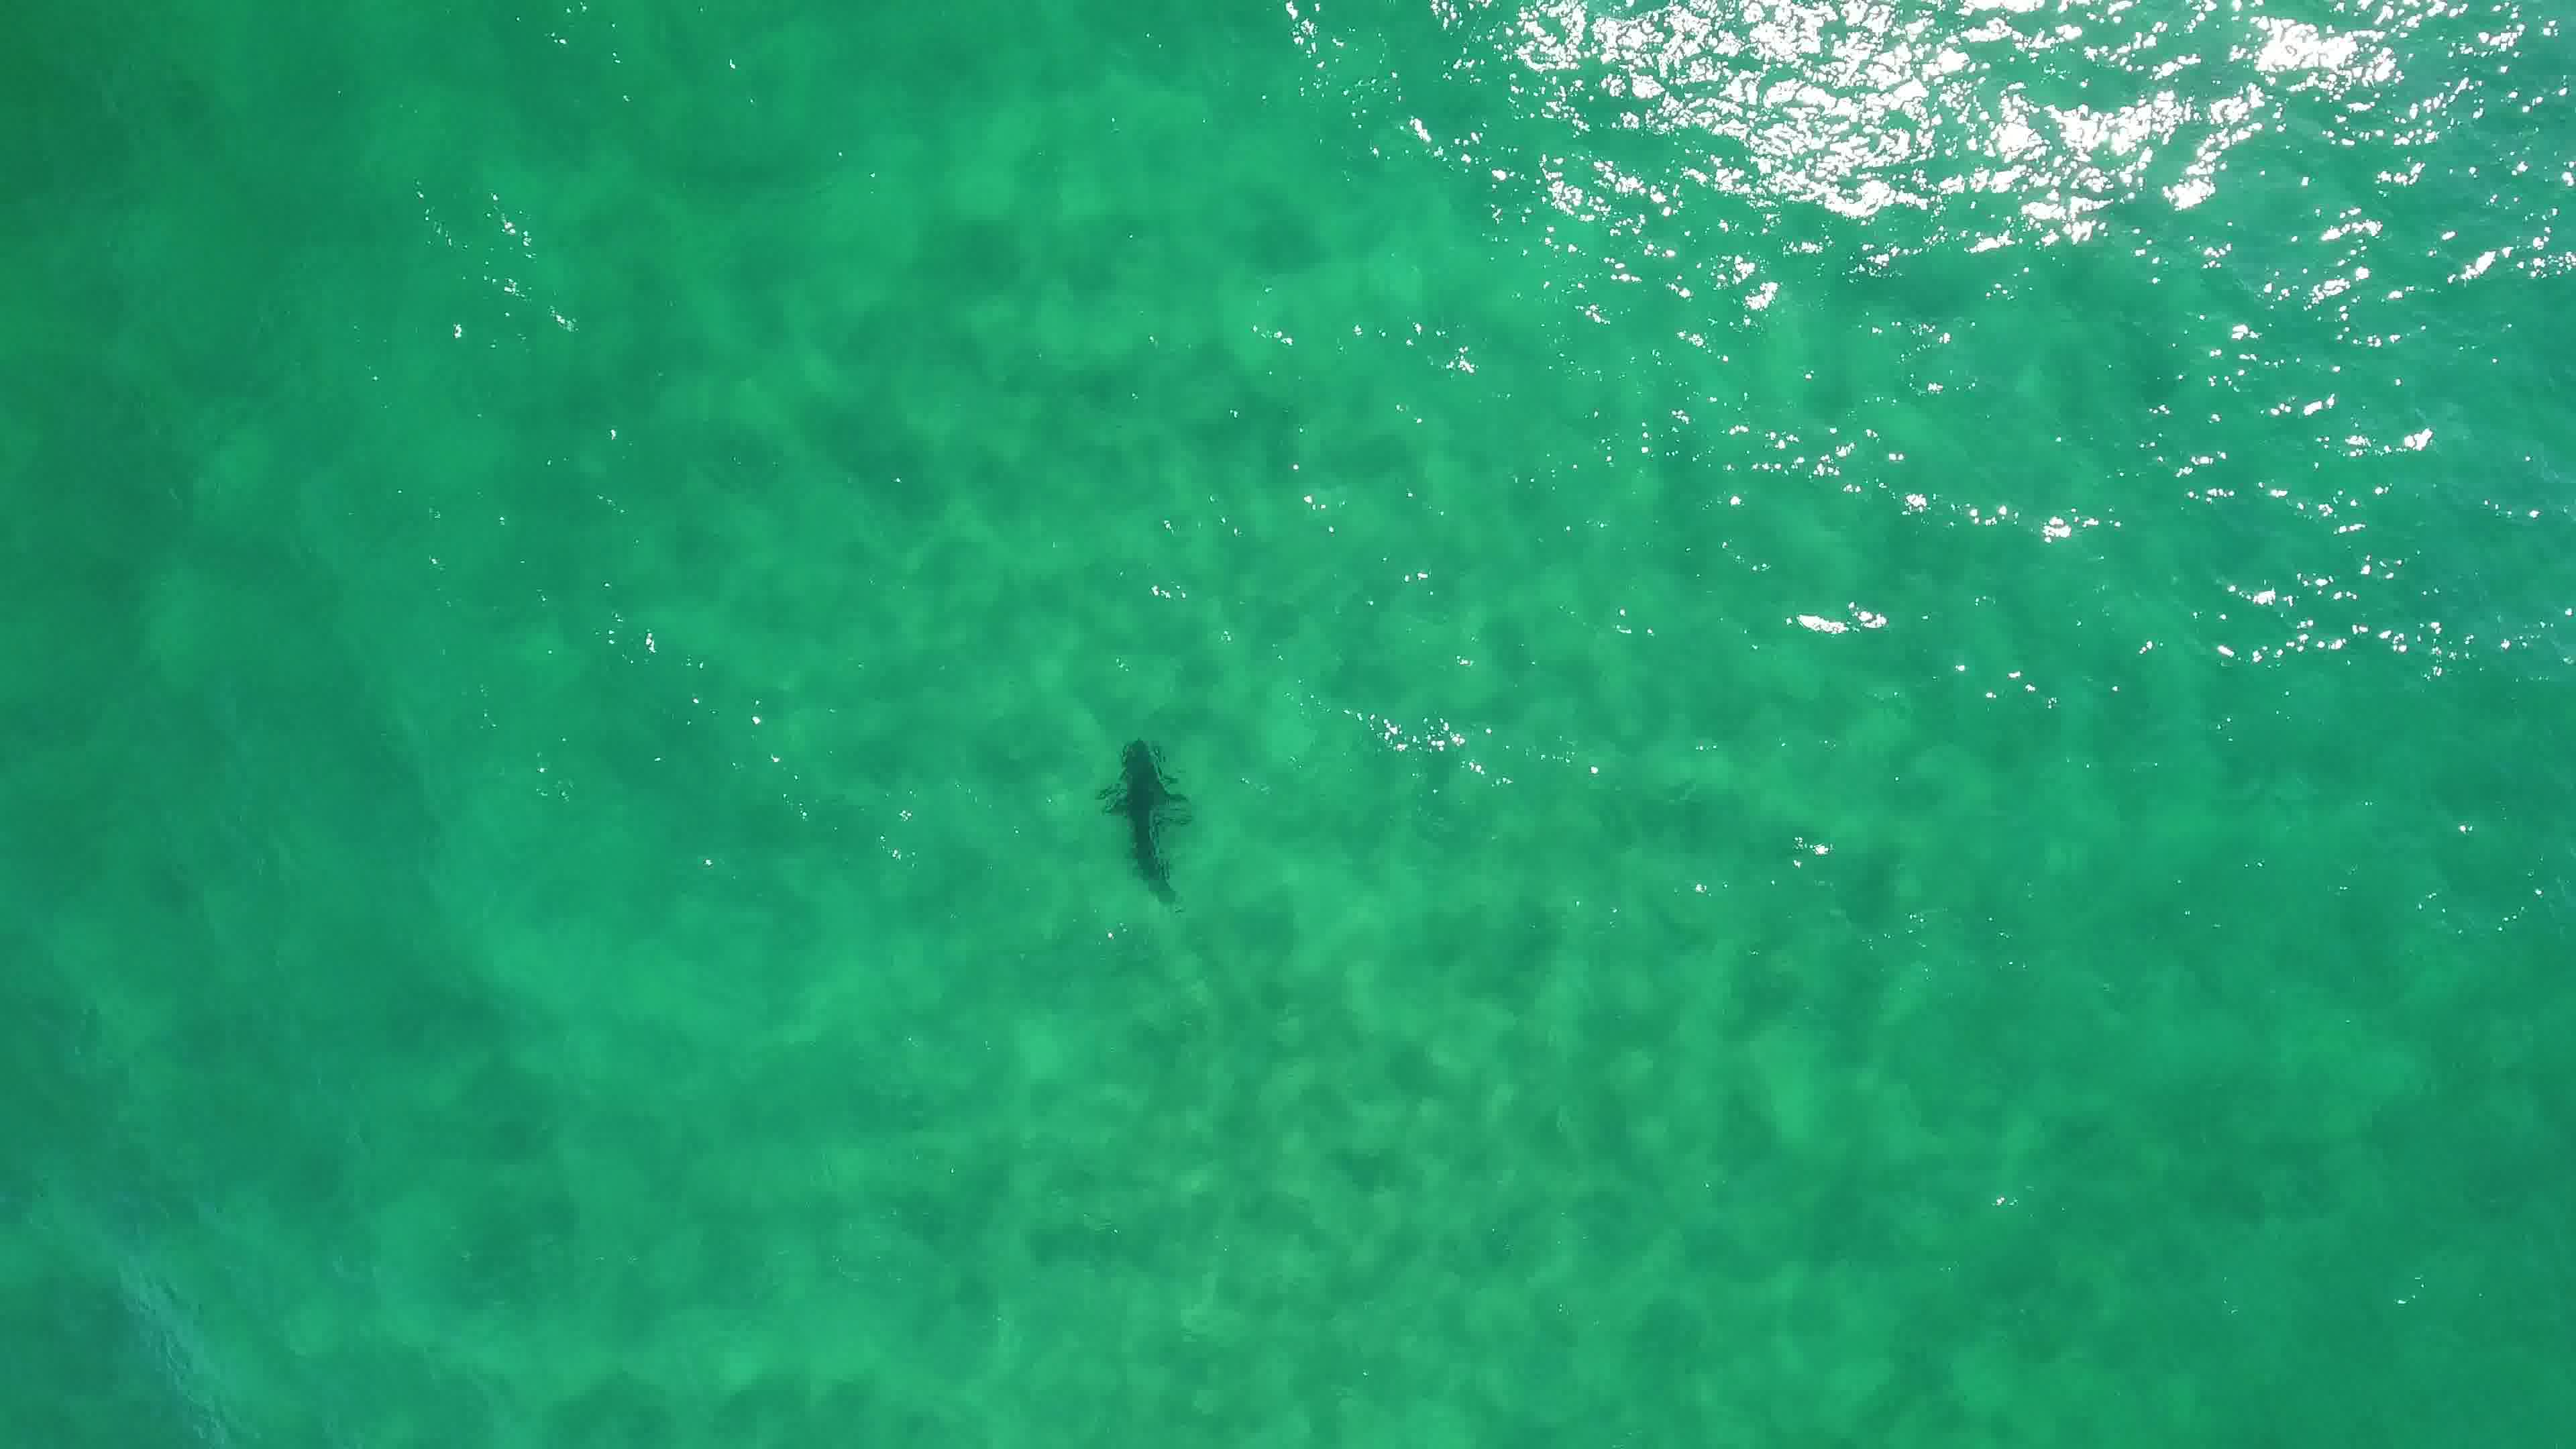shark: (1085, 736, 1201, 904)
